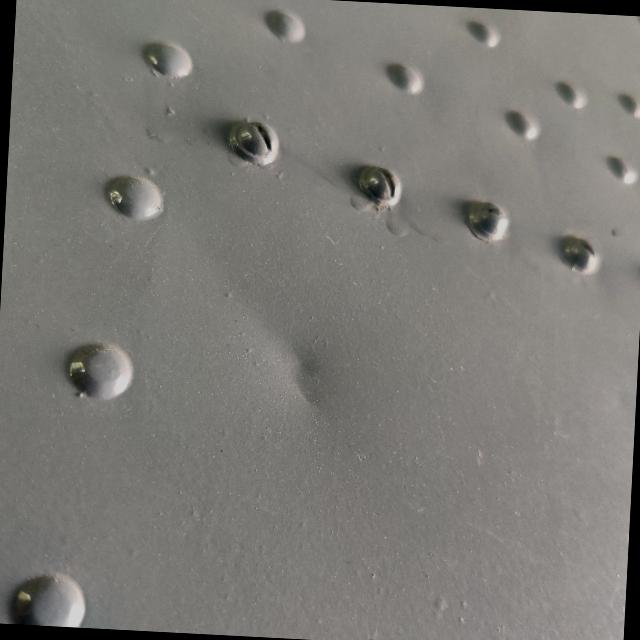dent: (238, 322, 368, 446)
